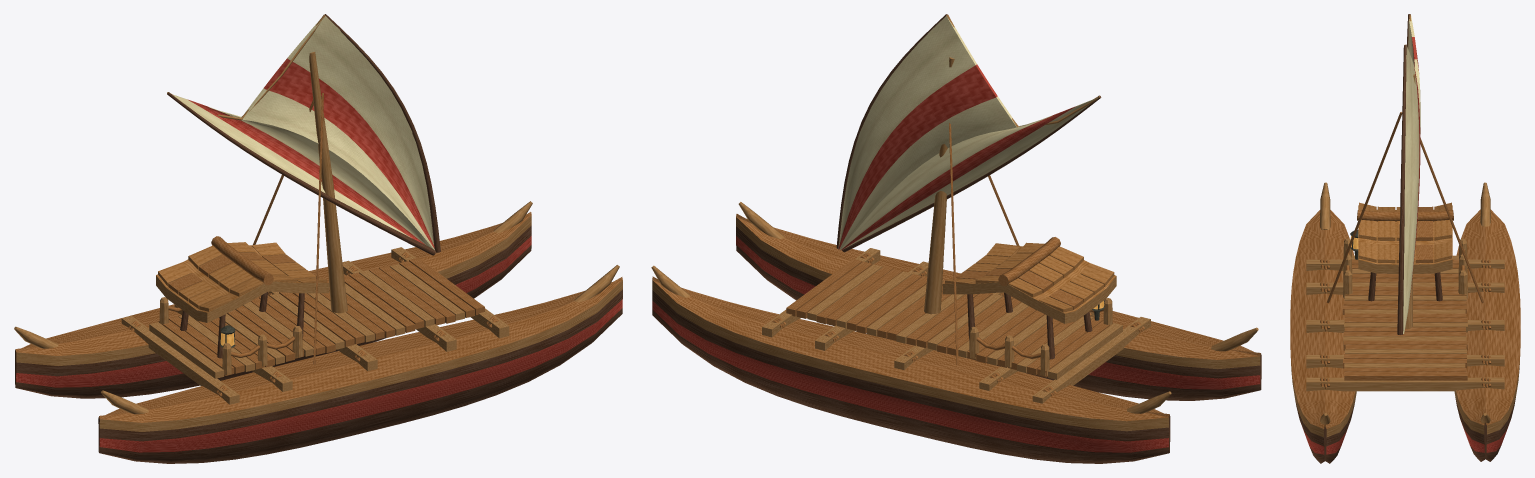
Rendered from lagoon_catamaran_mid.glb.
3 renders of one model, left to right at view 1: azimuth 30°, elevation 25°; view 2: azimuth 150°, elevation 25°; view 3: azimuth 270°, elevation 25°, orthographic. The views are drawn at different scales.
Parts seen in each view (by area): view 1: lagoon_catamaran_mid; view 2: lagoon_catamaran_mid; view 3: lagoon_catamaran_mid.
Boxes of the visible parts, x1=… form: lagoon_catamaran_mid: x1=14, y1=14, x2=622, y2=463; lagoon_catamaran_mid: x1=651, y1=14, x2=1261, y2=463; lagoon_catamaran_mid: x1=1290, y1=14, x2=1520, y2=463.
Size of the model in its own units: 12.5 by 8.8 by 5.2.
2 materials, 2 textured.
